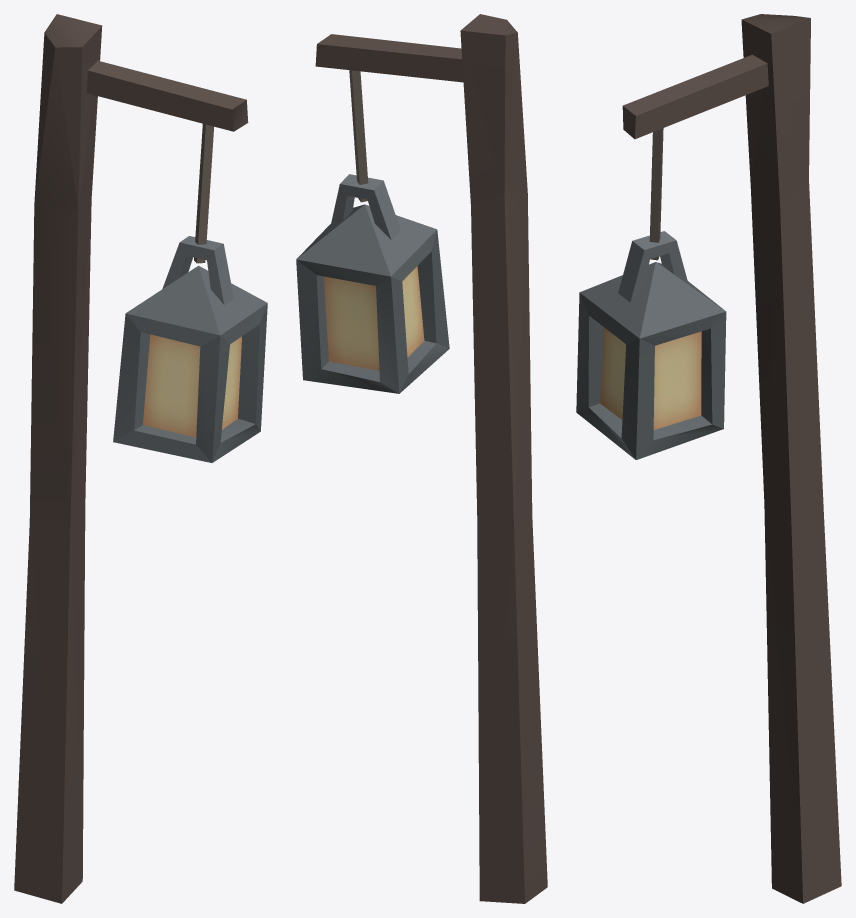
Rendered from midnightLanternProp.fbx.
The picture shows the model from 3 angles, left to right: view 1: azimuth 30°, elevation 25°; view 2: azimuth 210°, elevation 25°; view 3: azimuth 270°, elevation 25°; orthographic projection.
Visible parts, largest first — view 1: midnightLanternProp, midnightLanternLamp; view 2: midnightLanternProp, midnightLanternLamp; view 3: midnightLanternProp, midnightLanternLamp.
Part boxes in pixels (left/top/right/bottom): midnightLanternProp: left=14, top=14, right=248, bottom=903; midnightLanternLamp: left=113, top=124, right=267, bottom=462; midnightLanternProp: left=315, top=14, right=547, bottom=903; midnightLanternLamp: left=296, top=70, right=449, bottom=393; midnightLanternProp: left=622, top=14, right=841, bottom=903; midnightLanternLamp: left=576, top=128, right=726, bottom=459.
Size of the model in its own units: 0.7732 by 3.86 by 1.06.
